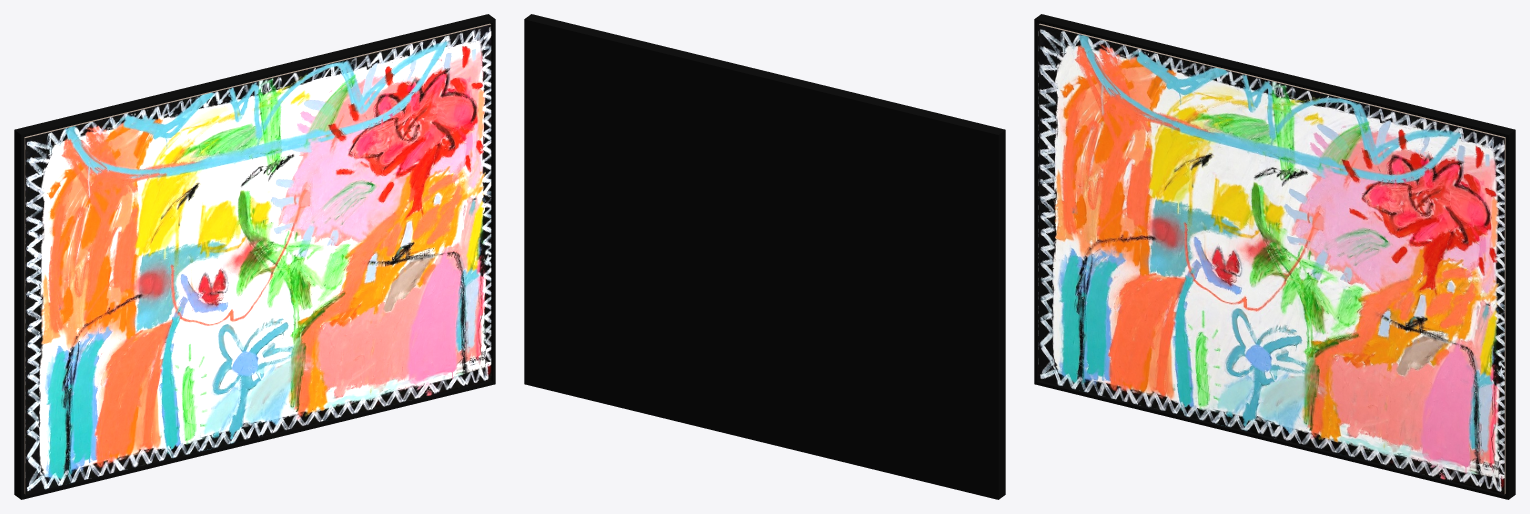
The model's file is in-the-garden-black.glb.
The picture shows the model from 3 angles, left to right: view 1: azimuth 30°, elevation 25°; view 2: azimuth 150°, elevation 25°; view 3: azimuth 330°, elevation 25°; orthographic projection.
Visible parts, largest first — view 1: painting; view 2: painting; view 3: painting.
Boxes of the visible parts, x1,y1,x2,y2 form: painting: (14, 14, 495, 499); painting: (524, 14, 1005, 499); painting: (1034, 14, 1515, 499).
Bounding box in the file's own units: 1.7 × 1.25 × 0.045.
3 materials, 1 textured.
